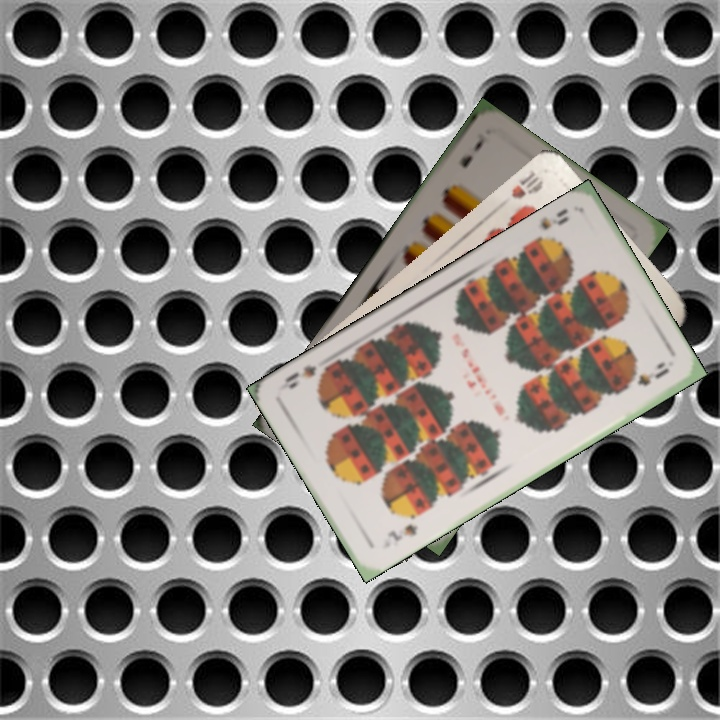E7: (455, 129, 488, 171)
H10: (507, 166, 546, 202)
S9: (527, 204, 572, 245), (383, 520, 421, 544)
